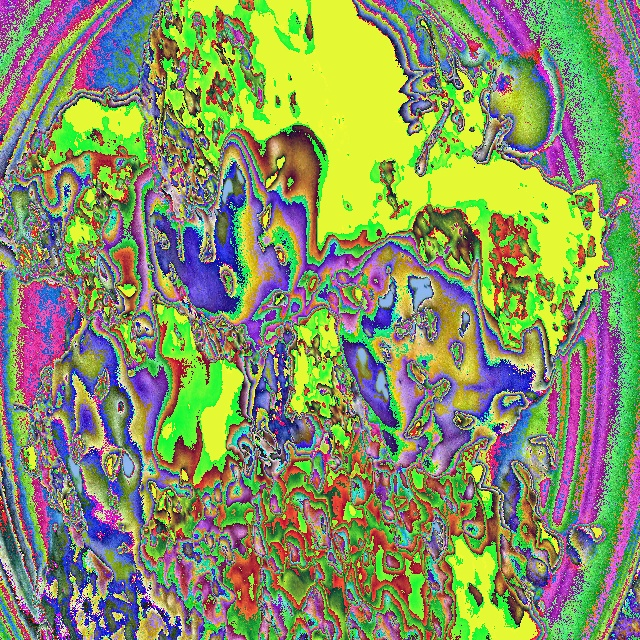background: (0, 0, 617, 640)
